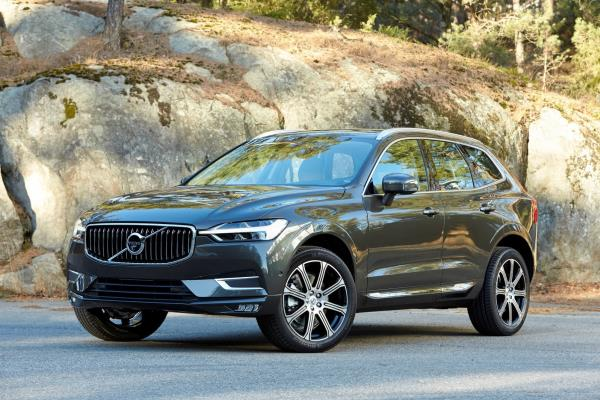pickup: (61, 126, 539, 350)
